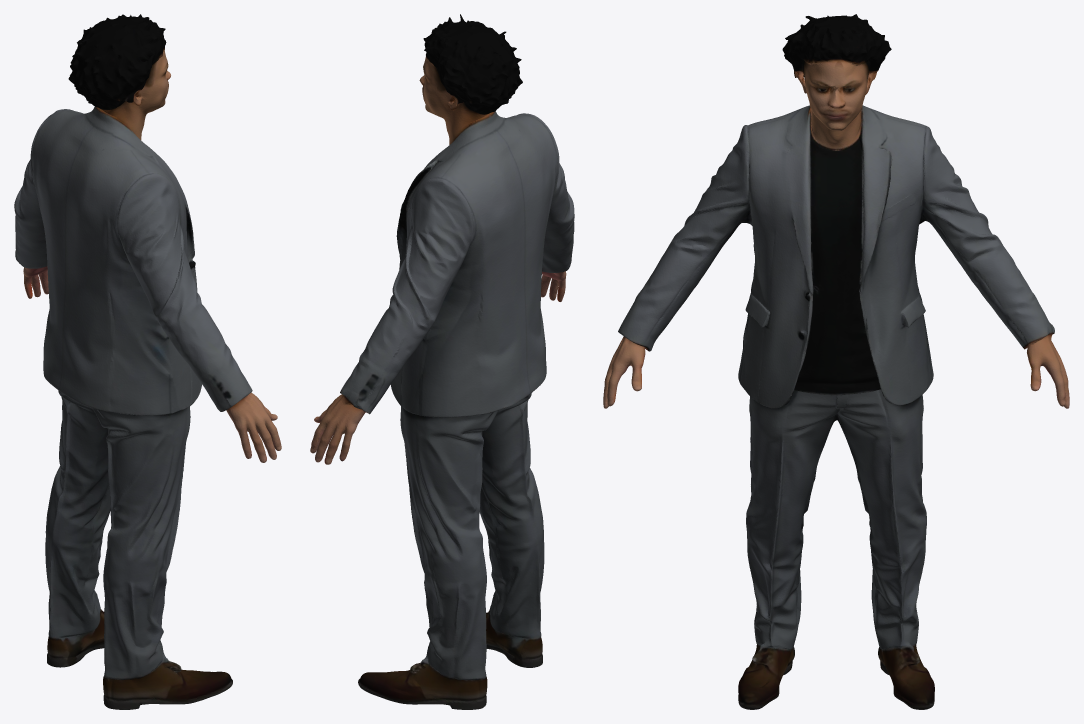
Rendered from me-opt.glb.
The picture shows the model from 3 angles, left to right: view 1: azimuth 30°, elevation 25°; view 2: azimuth 150°, elevation 25°; view 3: azimuth 270°, elevation 25°; orthographic projection. The views are drawn at different scales.
Parts seen in each view (by area): view 1: tripo_node_c367faf8-fd0b-459d-b9db-cfa831f703bb; view 2: tripo_node_c367faf8-fd0b-459d-b9db-cfa831f703bb; view 3: tripo_node_c367faf8-fd0b-459d-b9db-cfa831f703bb.
Part boxes in pixels (x1,y1,x2,y2): tripo_node_c367faf8-fd0b-459d-b9db-cfa831f703bb: (14, 14, 281, 709); tripo_node_c367faf8-fd0b-459d-b9db-cfa831f703bb: (310, 14, 574, 709); tripo_node_c367faf8-fd0b-459d-b9db-cfa831f703bb: (603, 14, 1069, 709).
Bounding box in the file's own units: 0.2075 × 1 × 0.633.
1 material, 1 textured.
